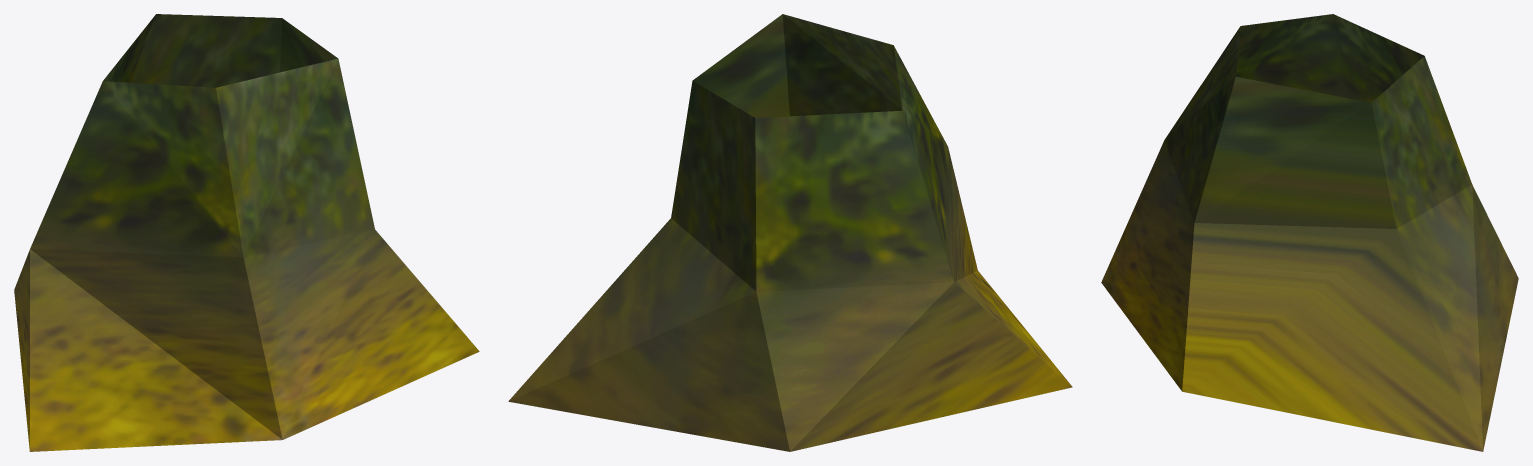
File: Ridge_3_1_Lat.gltf
3 views of the same model, side by side, from view 1: azimuth 30°, elevation 25°; view 2: azimuth 150°, elevation 25°; view 3: azimuth 270°, elevation 25° (orthographic). The views are drawn at different scales.
Parts seen in each view (by area): view 1: Ridge_3_1_Lat; view 2: Ridge_3_1_Lat; view 3: Ridge_3_1_Lat.
Boxes of the visible parts, x1=… form: Ridge_3_1_Lat: x1=14, y1=14, x2=479, y2=451; Ridge_3_1_Lat: x1=508, y1=14, x2=1072, y2=451; Ridge_3_1_Lat: x1=1101, y1=14, x2=1518, y2=451.
Bounding box in the file's own units: 23.79 × 17.09 × 20.94.
Materials: 1 (1 with a texture image).
